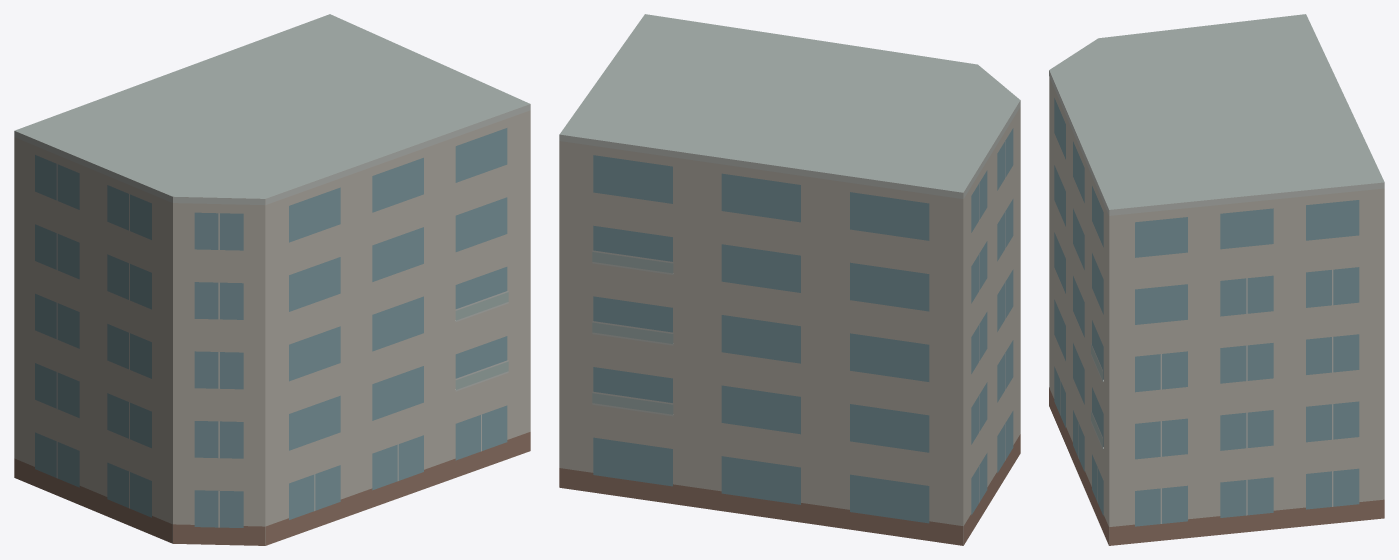
Rendered from survey-upis-33001919.glb.
3 views of the same model, side by side, from view 1: azimuth 30°, elevation 25°; view 2: azimuth 150°, elevation 25°; view 3: azimuth 270°, elevation 25° (orthographic). The views are drawn at different scales.
Parts seen in each view (by area): view 1: survey-upis-33001919.tmp; view 2: survey-upis-33001919.tmp; view 3: survey-upis-33001919.tmp.
Part boxes in pixels (x1=…): survey-upis-33001919.tmp: x1=14, y1=14, x2=530, y2=545; survey-upis-33001919.tmp: x1=559, y1=14, x2=1020, y2=545; survey-upis-33001919.tmp: x1=1049, y1=14, x2=1384, y2=545.
Size of the model in its own units: 16.9 by 13.5 by 12.23.
